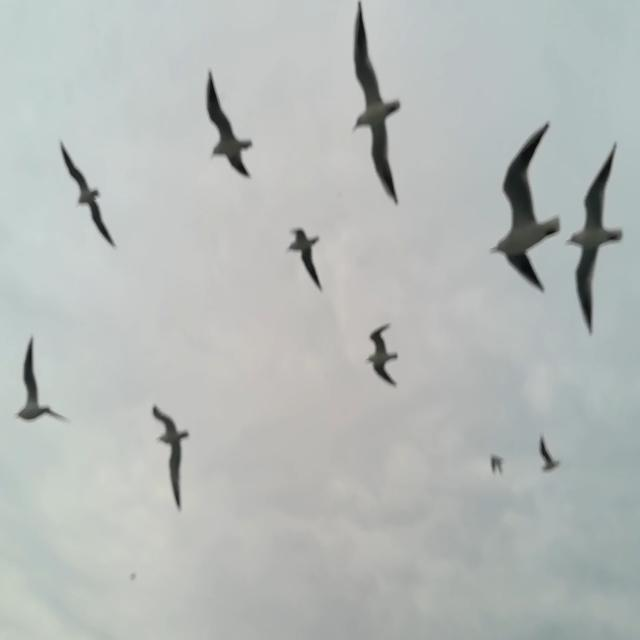bird: (488, 120, 560, 296), (563, 139, 626, 336), (350, 0, 402, 206), (60, 142, 118, 249), (204, 70, 255, 180), (14, 334, 71, 421), (152, 403, 189, 509), (286, 228, 323, 297), (366, 322, 400, 389), (539, 435, 560, 472), (489, 452, 507, 478), (128, 569, 139, 583)
